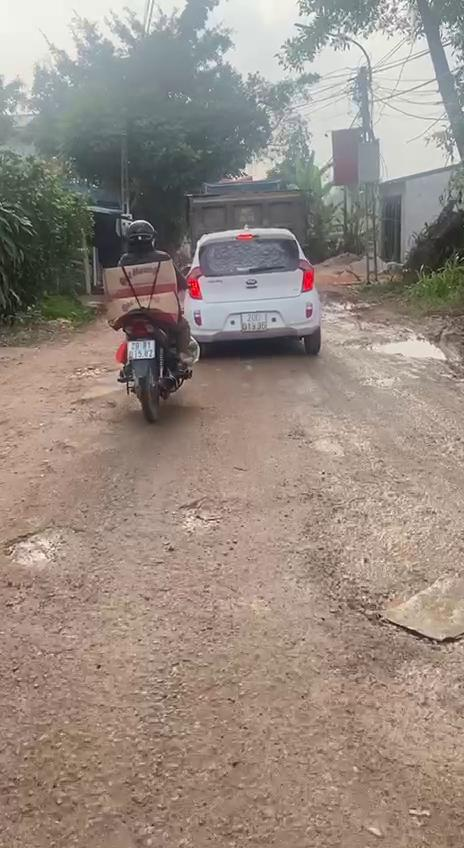pothole: (6, 519, 94, 566), (340, 332, 448, 364), (176, 497, 240, 536)
